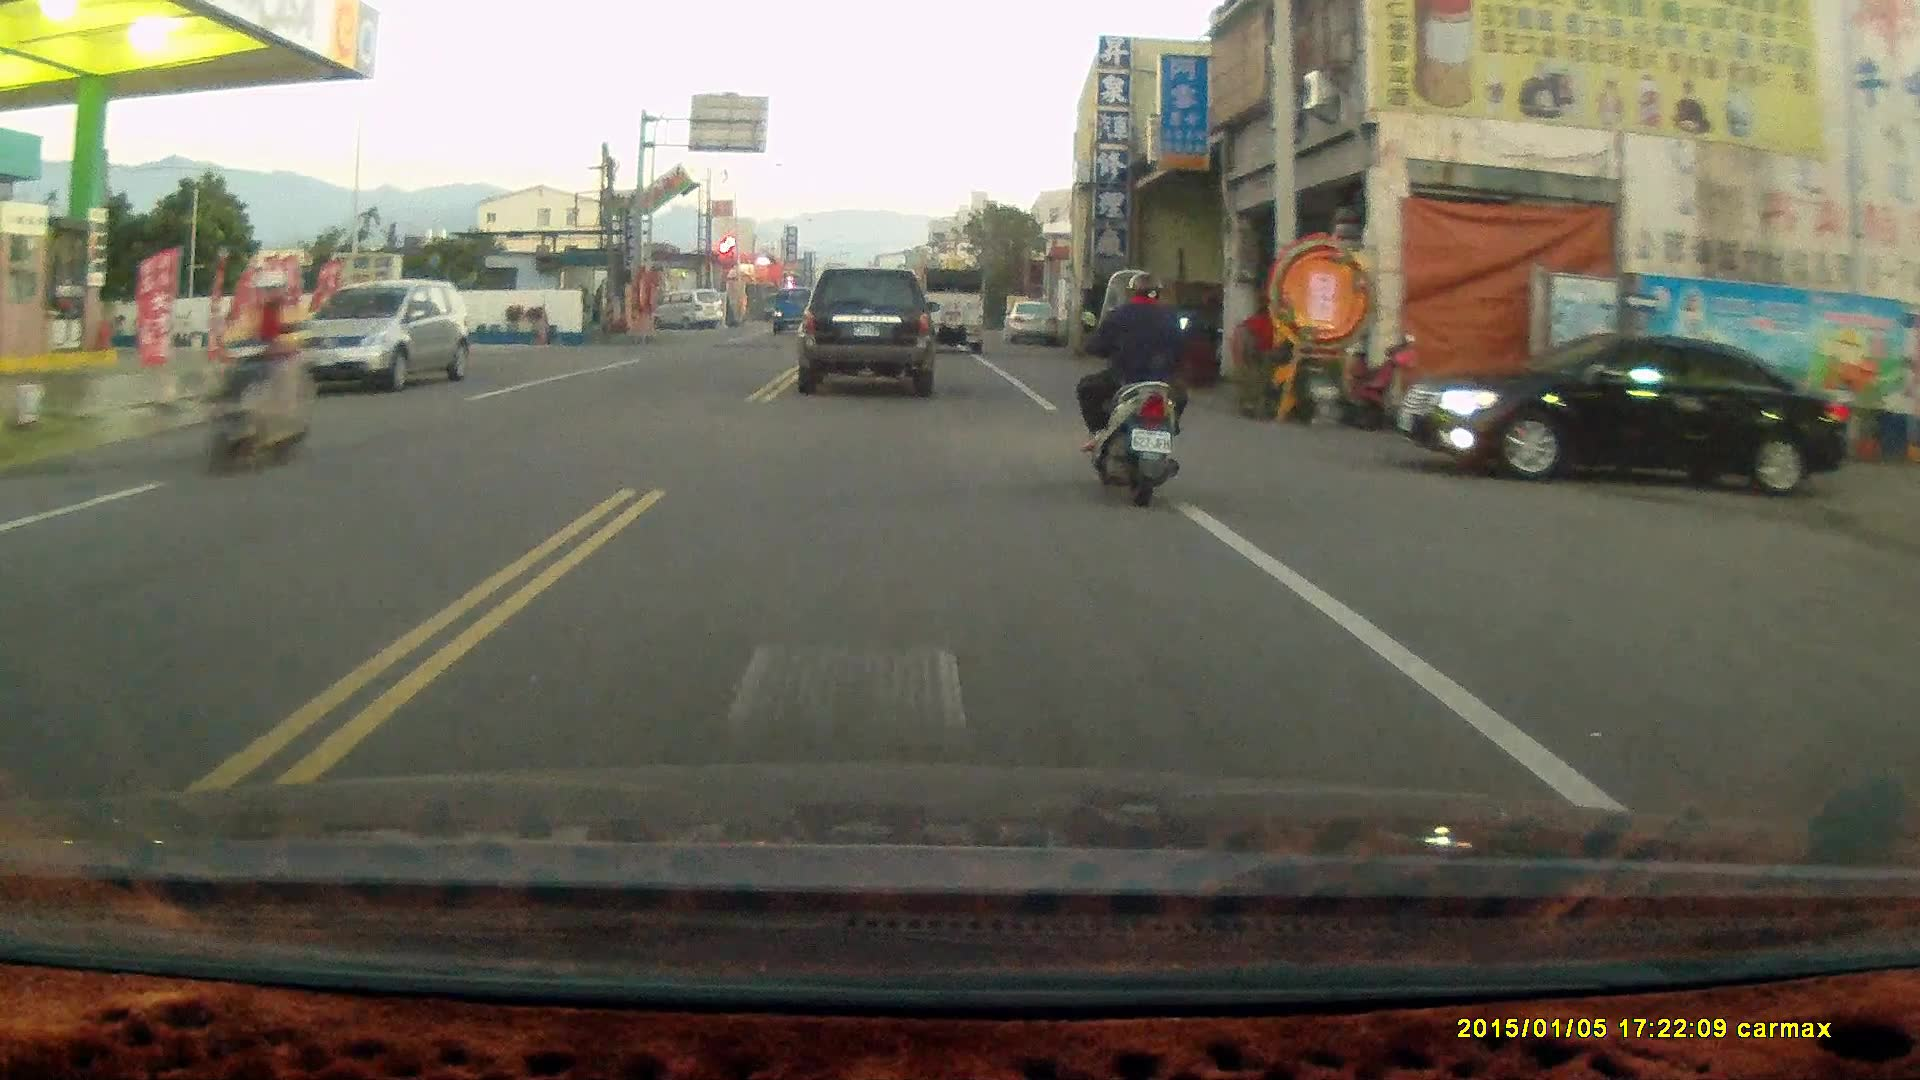rider: (199, 266, 328, 481), (1076, 265, 1187, 504)
vehicle: (1404, 332, 1857, 496), (298, 276, 470, 397), (796, 260, 943, 395), (915, 266, 987, 355), (1003, 300, 1060, 343)
